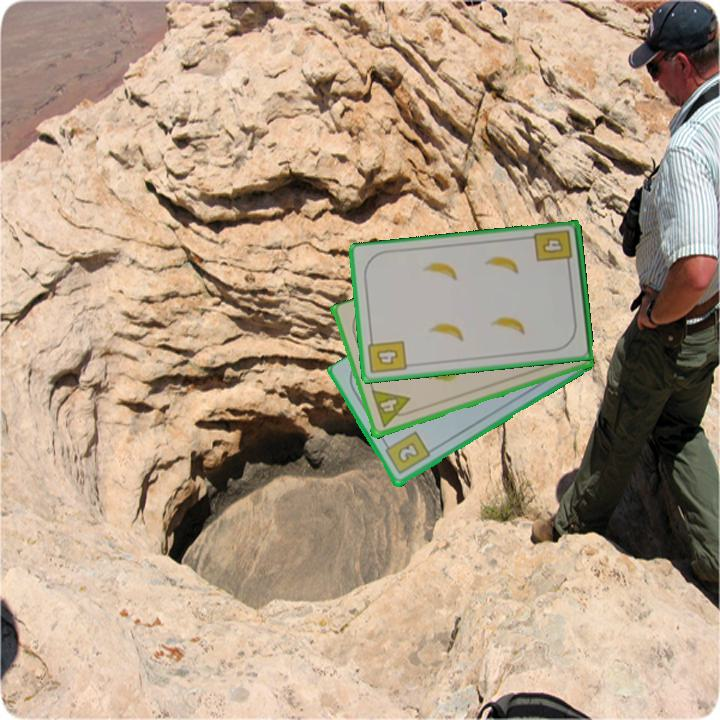2b: (380, 428, 433, 477)
4b: (531, 226, 575, 271), (365, 333, 409, 377)
4p: (368, 387, 416, 431)
